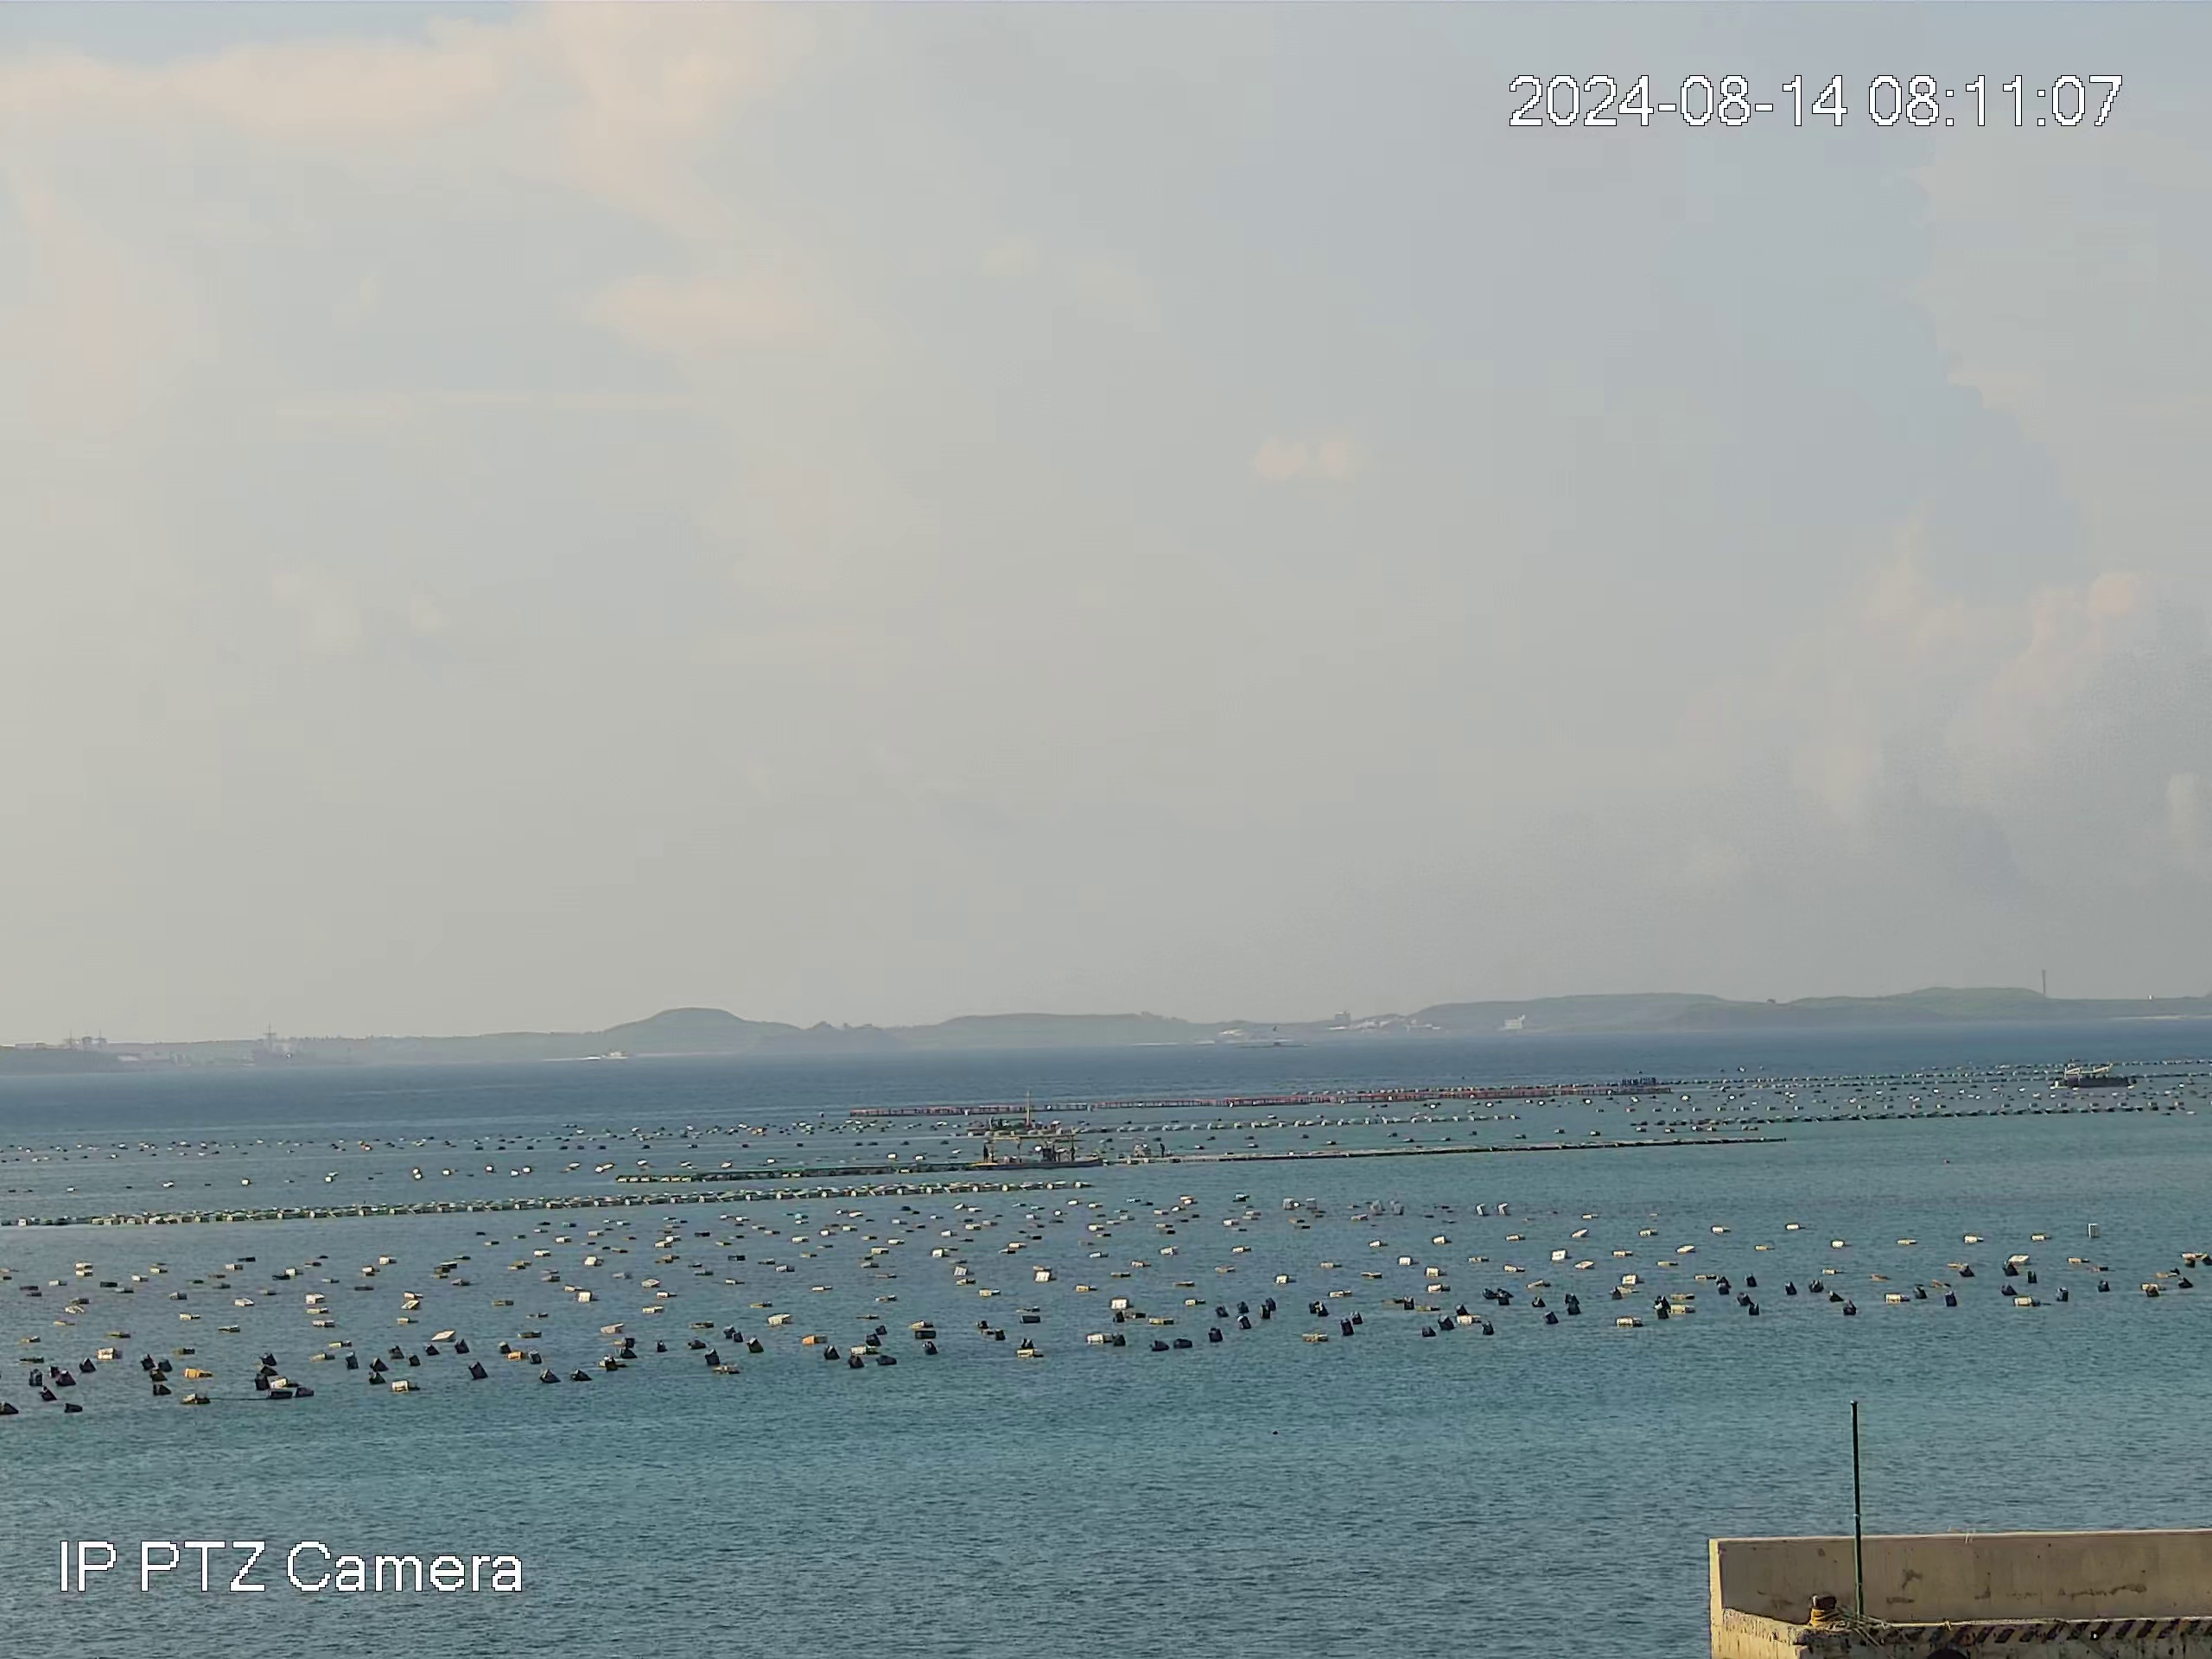boat: (975, 1119, 1096, 1164), (2052, 1063, 2139, 1091)
